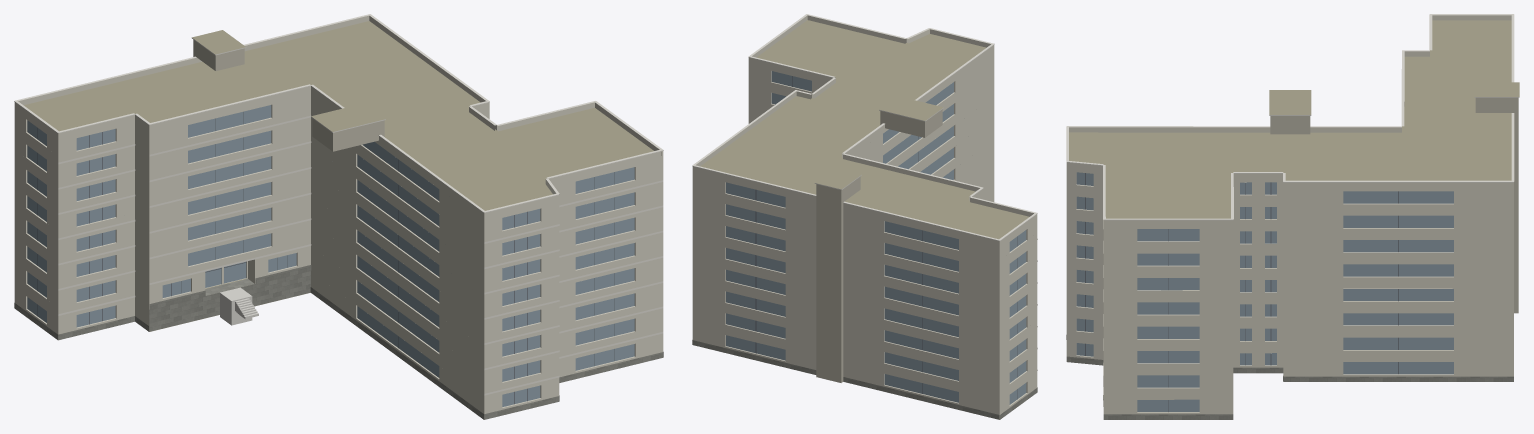
3 views of the same model, side by side, from view 1: azimuth 30°, elevation 25°; view 2: azimuth 150°, elevation 25°; view 3: azimuth 270°, elevation 25° (orthographic). The views are drawn at different scales.
Parts seen in each view (by area): view 1: b905__wall, b905__roof, b905__glass, b905__trim, b905__base, b905__parapet, b905__wall2, b905__entranceStair, b905__frame; view 2: b905__wall, b905__roof, b905__glass, b905__wall2, b905__parapet, b905__trim, b905__base, b905__frame; view 3: b905__wall, b905__roof, b905__glass, b905__parapet, b905__trim, b905__base, b905__wall2, b905__frame.
Part boxes in pixels (x1,y1,x2,y2): b905__wall: (14, 90, 663, 419); b905__roof: (24, 21, 653, 331); b905__glass: (27, 105, 634, 406); b905__trim: (14, 14, 663, 395); b905__base: (14, 265, 663, 419); b905__parapet: (14, 15, 663, 217); b905__wall2: (193, 40, 384, 151); b905__entranceStair: (220, 287, 258, 325); b905__frame: (37, 112, 614, 404); b905__wall: (692, 49, 1037, 419); b905__roof: (700, 20, 1029, 239); b905__glass: (726, 71, 1026, 404); b905__wall2: (816, 109, 942, 382); b905__parapet: (692, 15, 1037, 244); b905__trim: (692, 14, 1037, 370); b905__base: (692, 340, 1037, 419); b905__frame: (755, 76, 1017, 399); b905__wall: (1066, 167, 1513, 414); b905__roof: (1069, 20, 1519, 399); b905__glass: (1076, 172, 1453, 411); b905__parapet: (1066, 15, 1513, 224); b905__trim: (1066, 14, 1519, 220); b905__base: (1066, 335, 1513, 419); b905__wall2: (1270, 97, 1518, 313); b905__frame: (1085, 173, 1398, 411).
Bounding box in the file's own units: 63.34 × 31.45 × 58.99.
10 materials, 1 textured.
